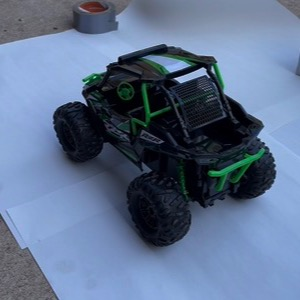polaris: (52, 43, 277, 248)
